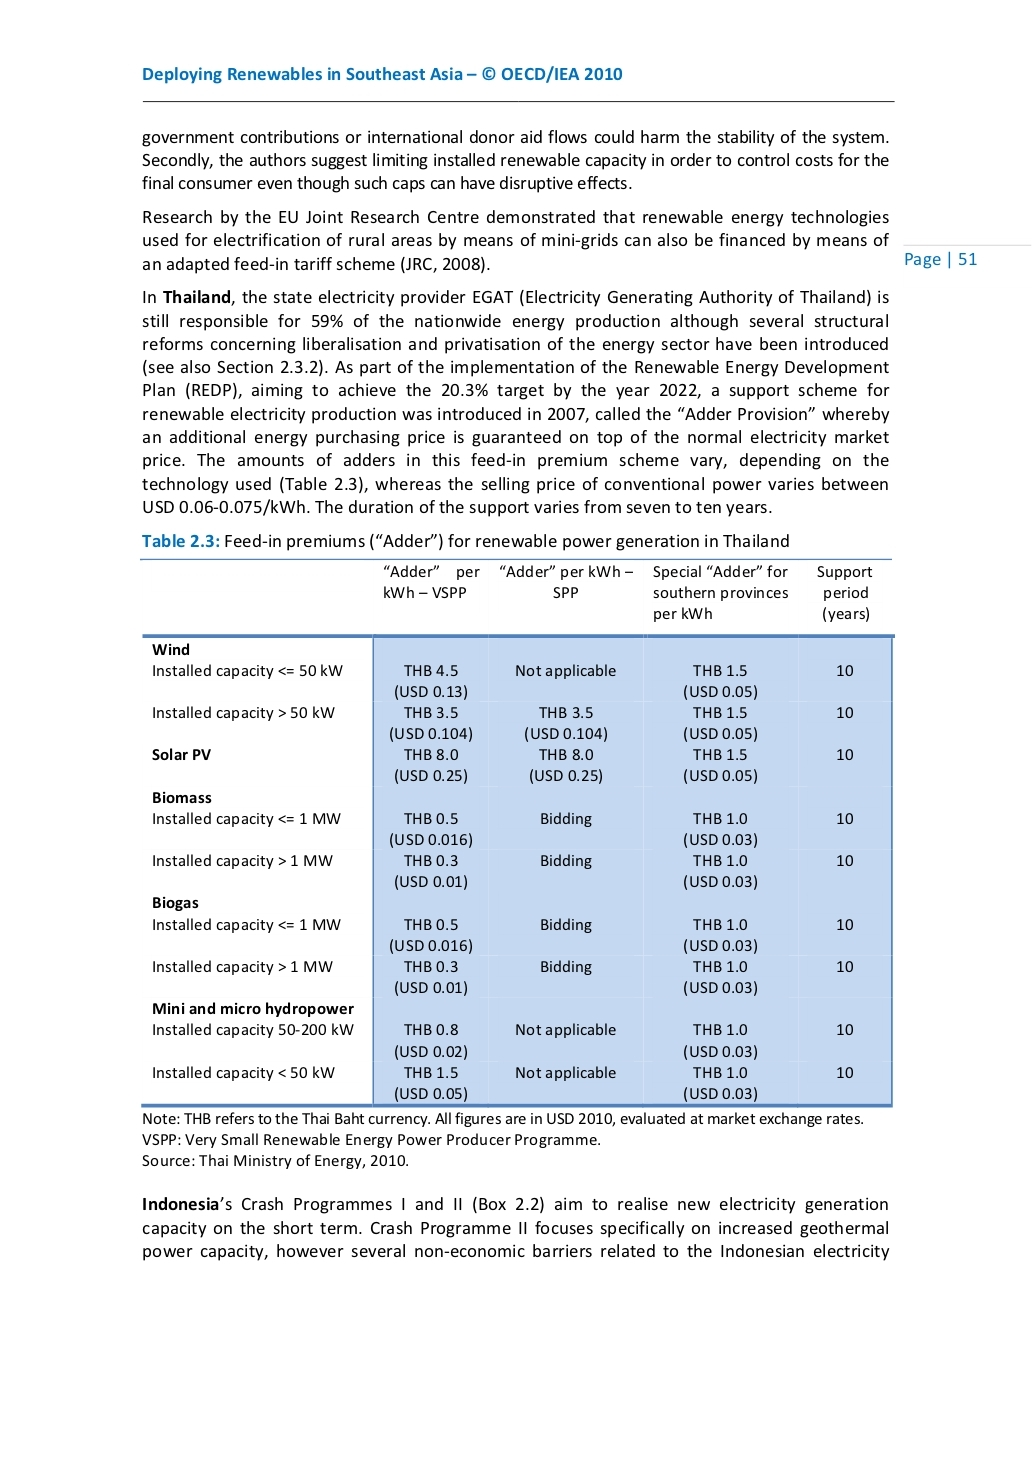Table: (141, 632, 894, 1108)
